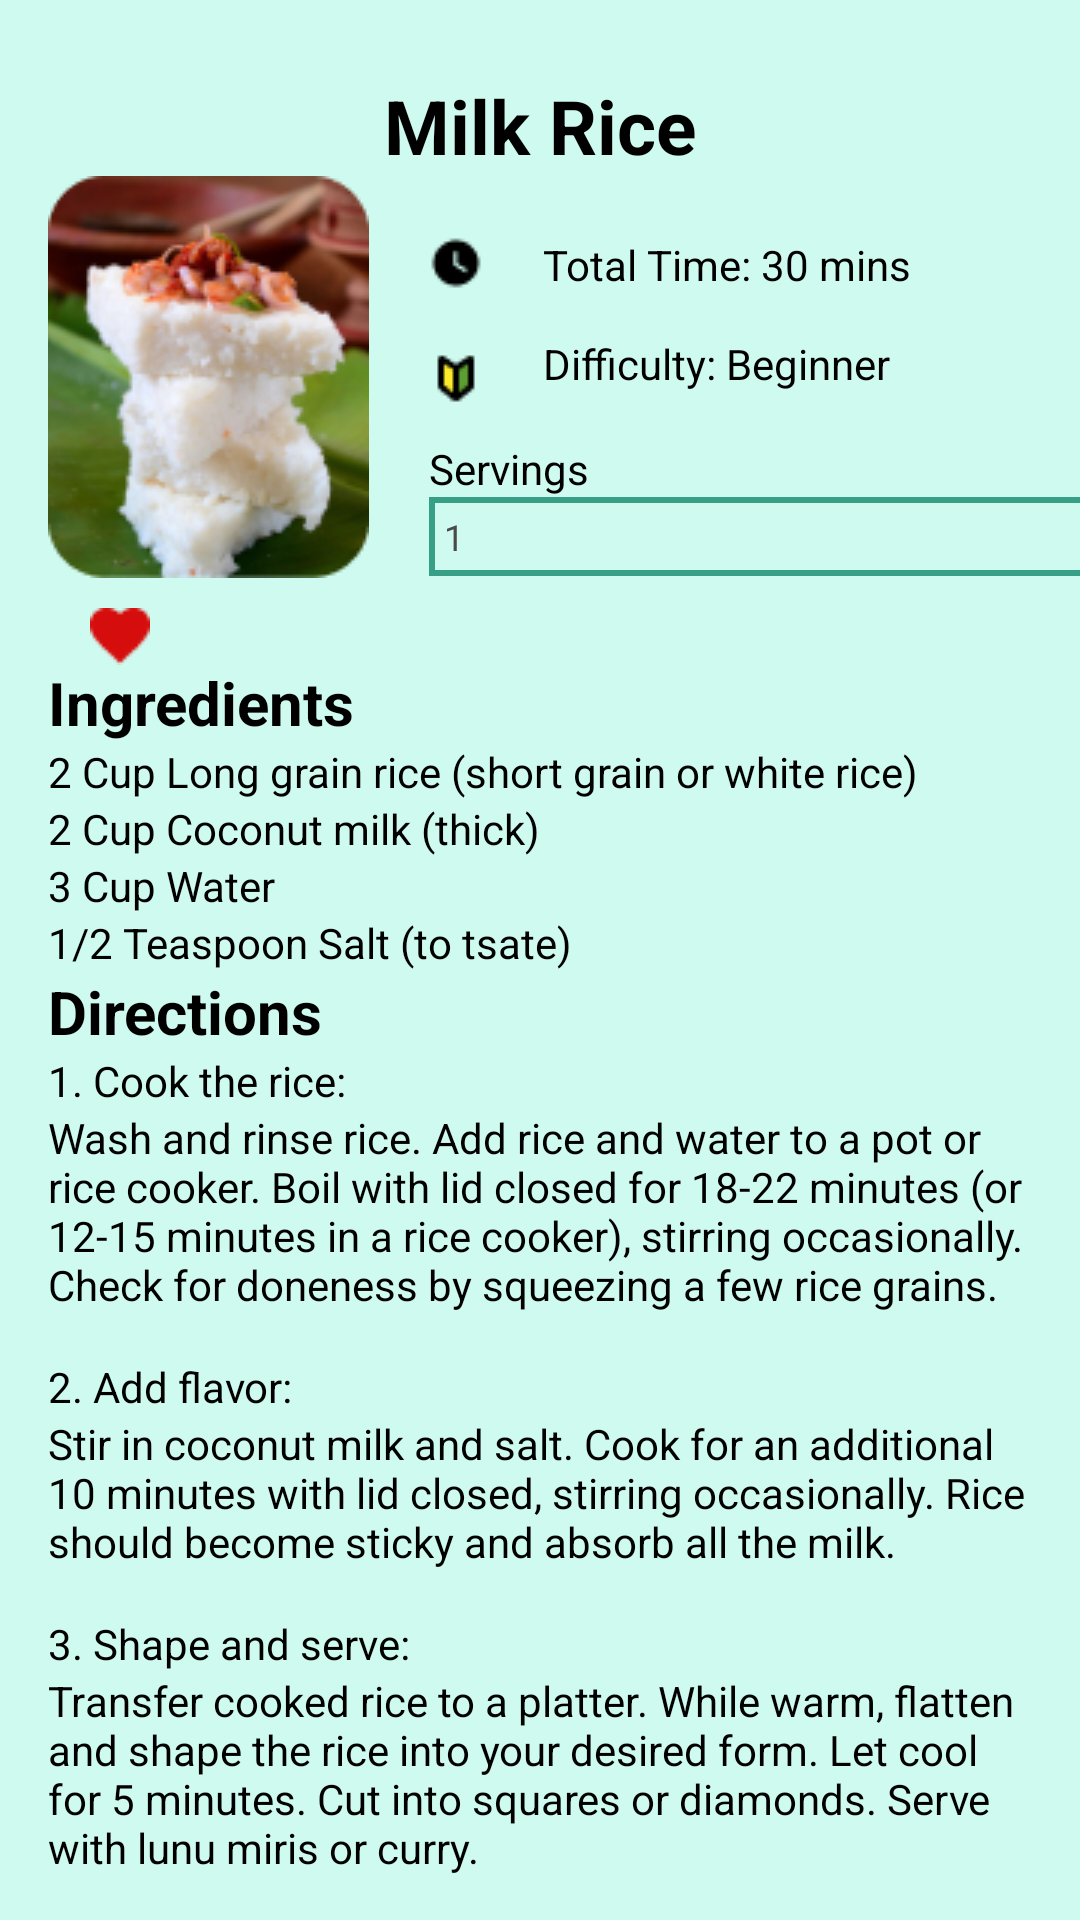

Icon bounding boxes for this 1080*1920 phone screenshot, format (x1, y1, x2, y2):
clock: (431, 238, 481, 288)
heart: (90, 608, 150, 665)
